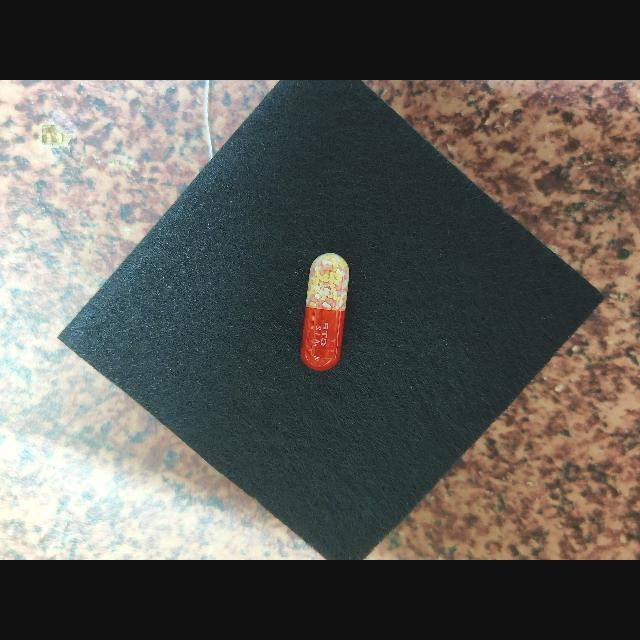Intact Capsule: (301, 253, 349, 371)
